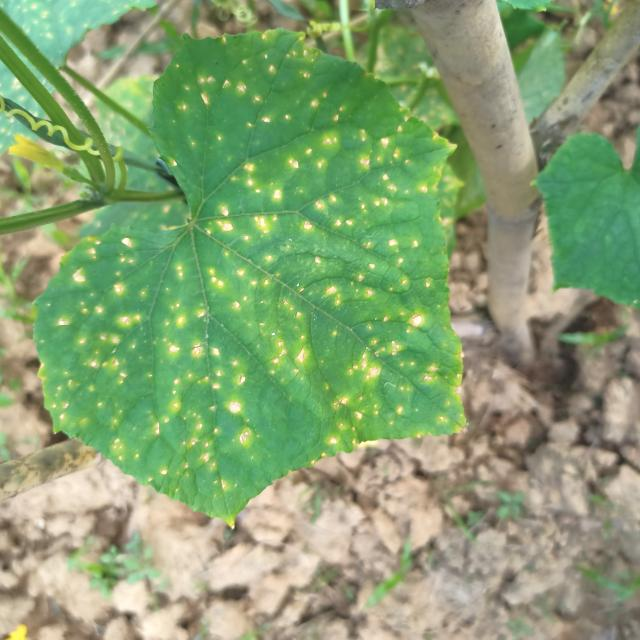disease_cucumber: (39, 31, 448, 493)
